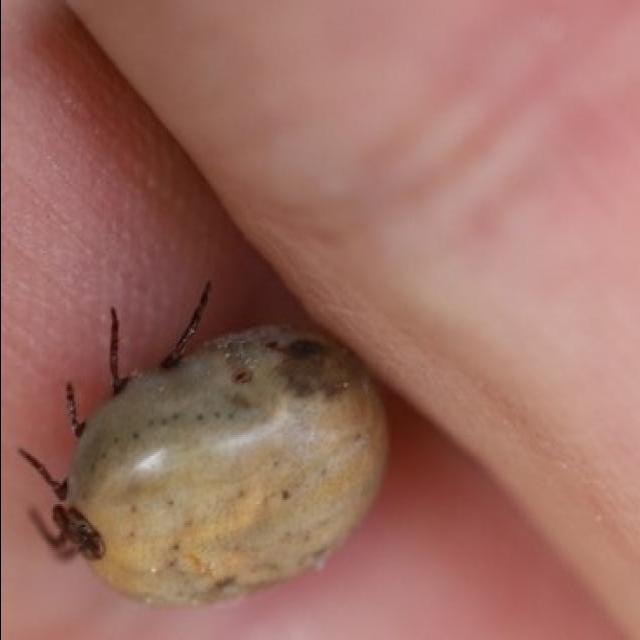Dermacentor Reticulatus-F-Fed: (21, 278, 395, 609)
